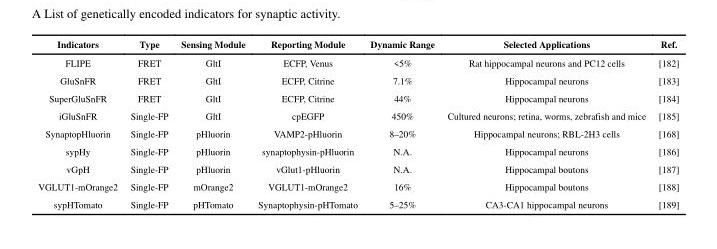table: (38, 37, 679, 209)
table column: (441, 37, 652, 209), (251, 37, 364, 209), (38, 37, 124, 209), (174, 37, 251, 209), (364, 37, 441, 209), (124, 37, 174, 209), (652, 37, 679, 209)
table column header: (38, 37, 679, 53)
table row: (38, 53, 679, 71), (38, 88, 679, 106), (38, 106, 679, 124), (38, 141, 679, 159), (38, 159, 679, 177), (38, 71, 679, 88), (38, 124, 679, 141), (38, 177, 679, 194), (38, 37, 679, 53), (38, 194, 679, 209)
